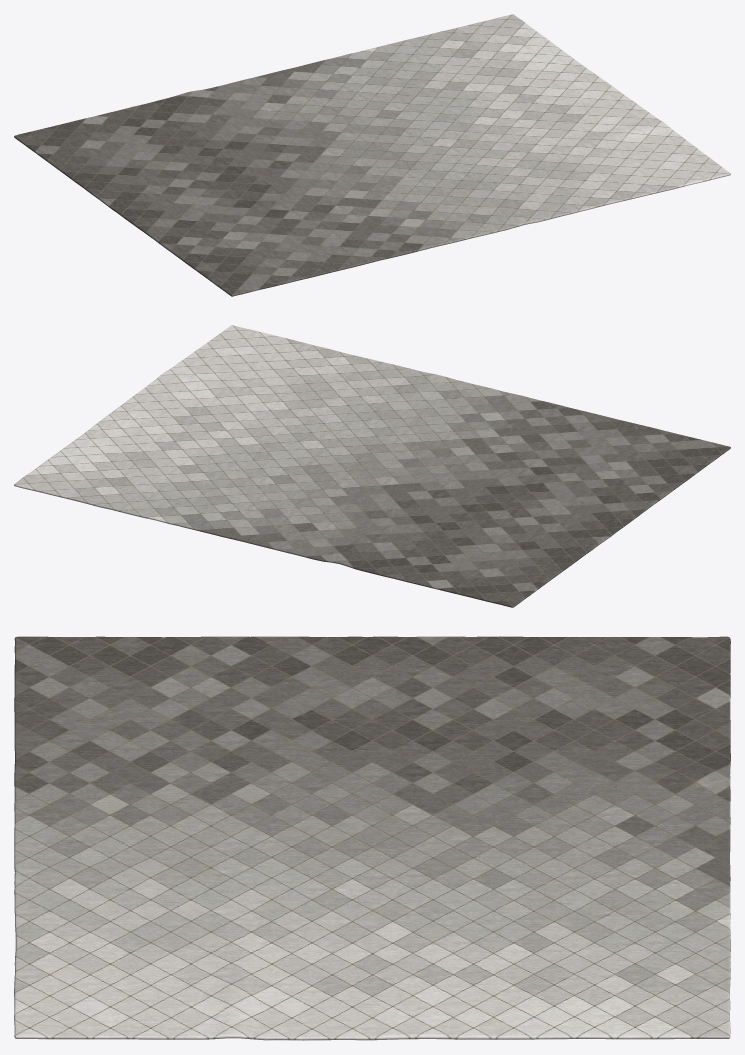
File: moonstruck.gltf
The picture shows the model from 3 angles, top to bottom: view 1: azimuth 30°, elevation 25°; view 2: azimuth 150°, elevation 25°; view 3: azimuth 270°, elevation 25°; orthographic projection. The views are drawn at different scales.
Parts seen in each view (by area): view 1: moonstruck; view 2: moonstruck; view 3: moonstruck.
Boxes of the visible parts, <box> form: moonstruck: <box>14,14,730,296</box>; moonstruck: <box>14,325,730,607</box>; moonstruck: <box>14,636,730,1040</box>.
Size of the model in its own units: 2.42 by 0.0175 by 1.82.
1 material, 1 textured.
